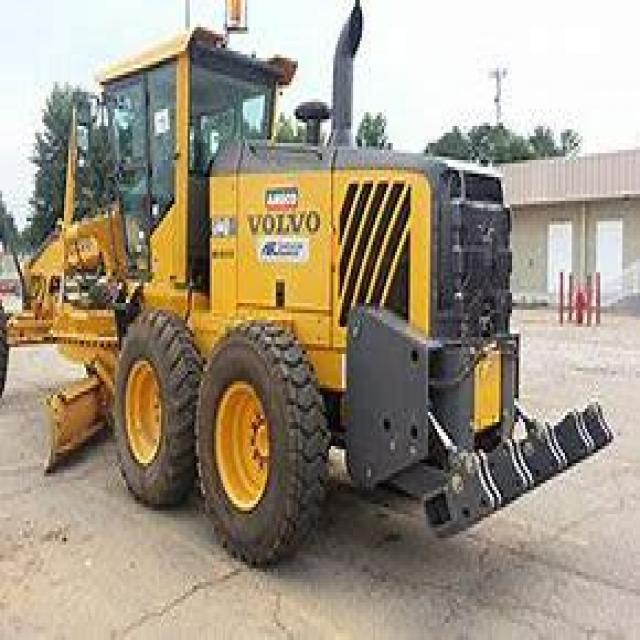Grader: (4, 14, 638, 582)
